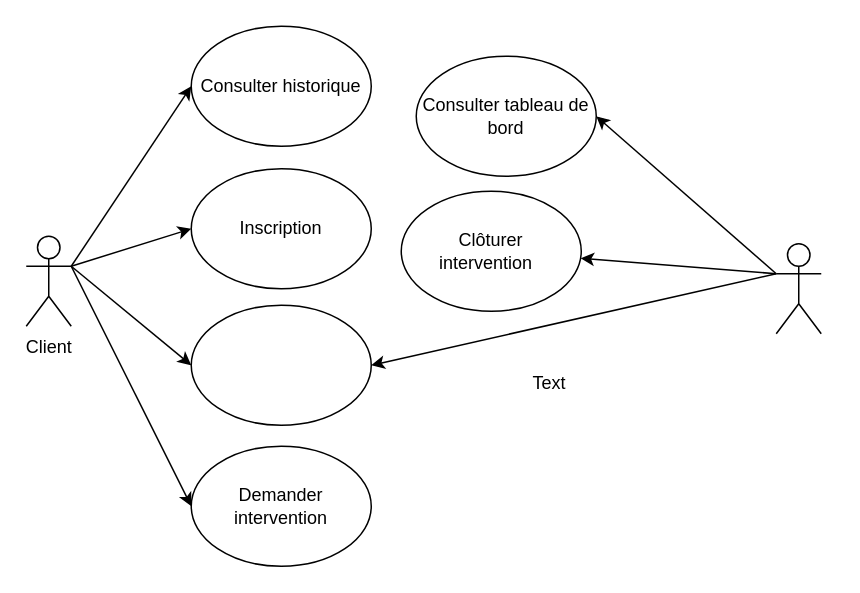
This 860x593 diagram has some shape labels left out. Here are the shapes that lost their labels. From the top down, the centre of each, then its label:
At pixel 798 288: "Employé".
At pixel 280 364: "Connexion".
